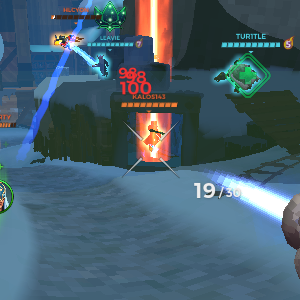model: (145, 116, 164, 155), (49, 31, 85, 51)
